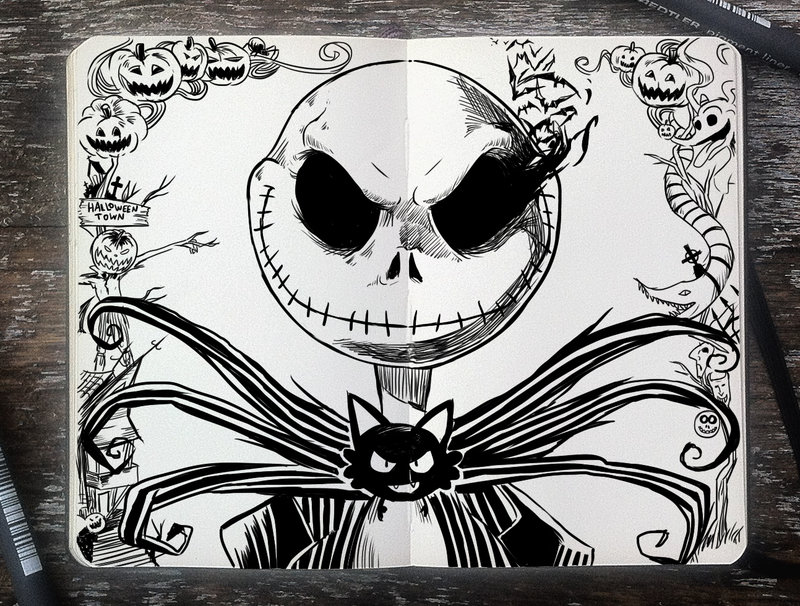Jack Skellington: (80, 58, 741, 569)
